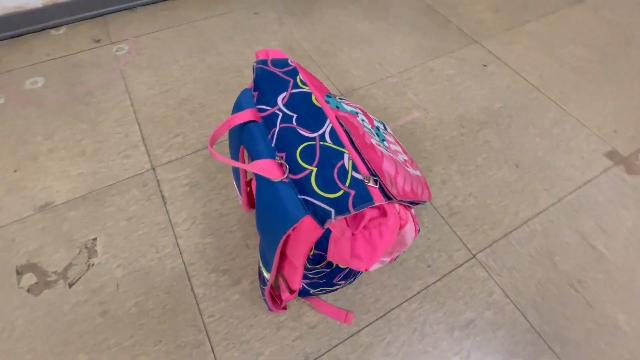Backpack: (200, 40, 438, 332)
